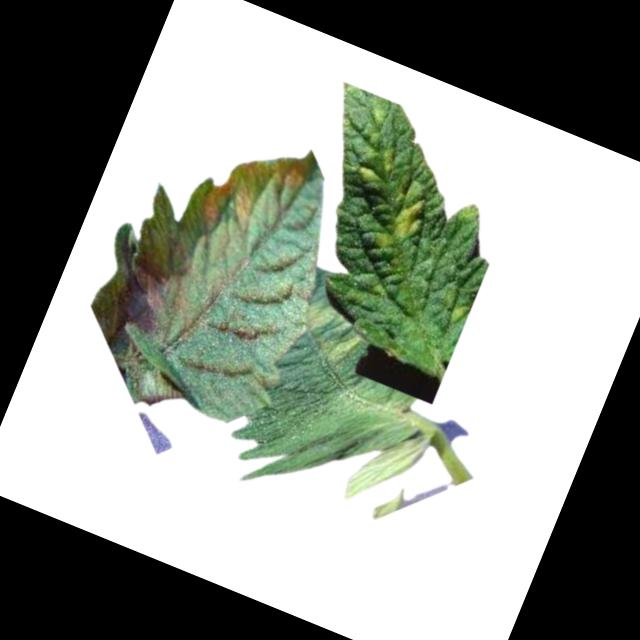Leaf_Mold: (186, 124, 315, 261), (367, 177, 436, 263), (290, 296, 368, 370), (351, 133, 405, 195)
